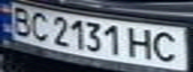1: (100, 22, 127, 56), (66, 17, 84, 52)
2: (45, 14, 72, 48)
3: (81, 20, 106, 54)
B: (6, 3, 36, 36)
C: (148, 29, 187, 64), (24, 9, 54, 42)
H: (124, 25, 157, 61)
